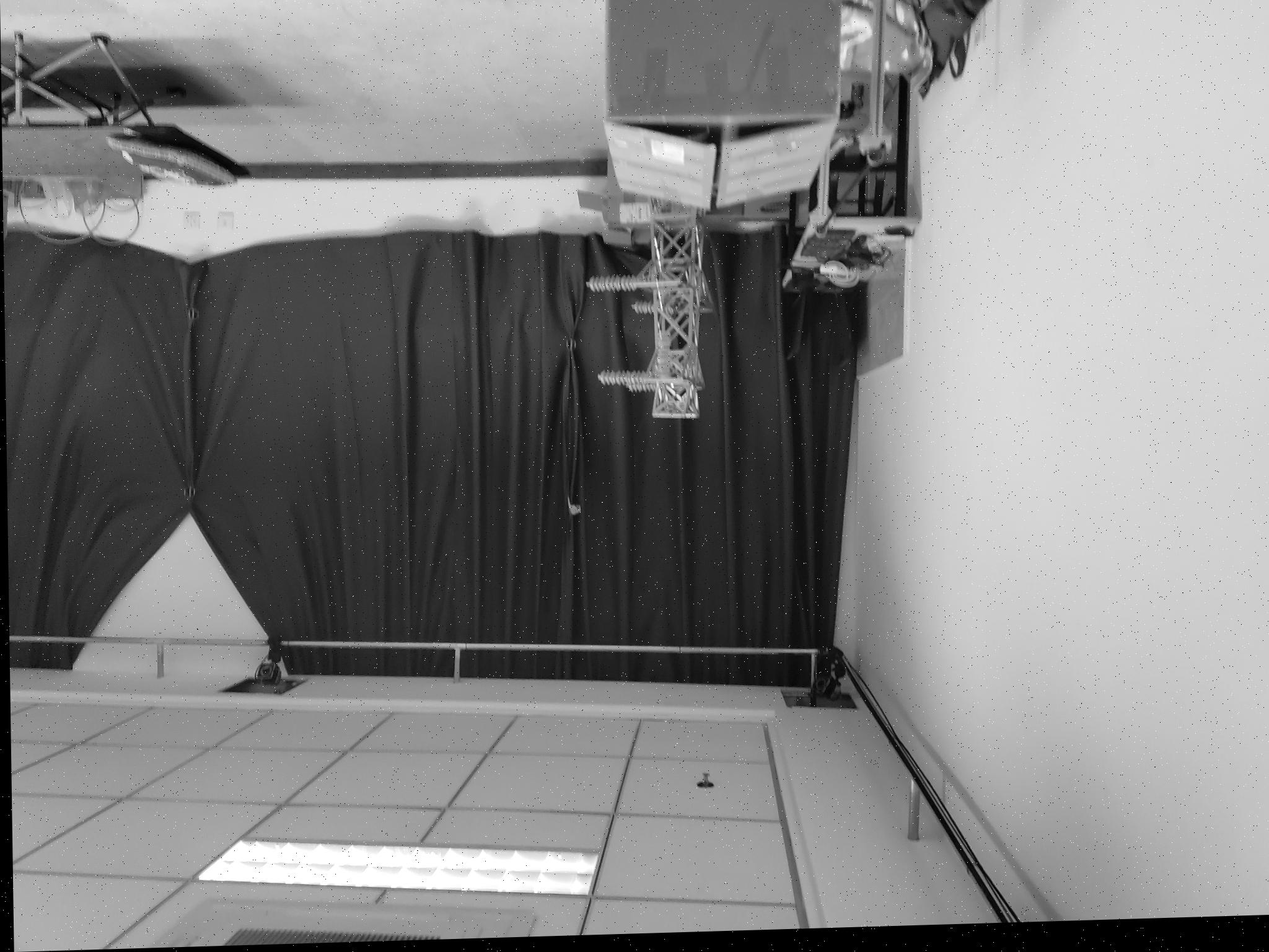tower: (635, 202, 718, 419)
